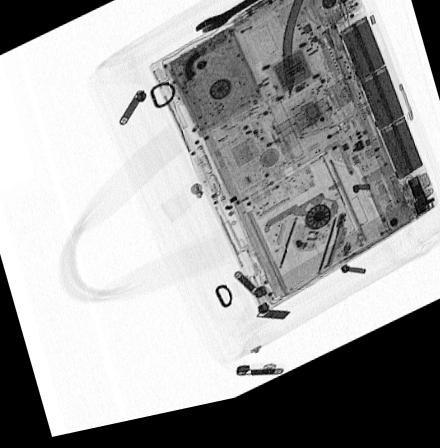Wrench: (193, 0, 279, 43)
